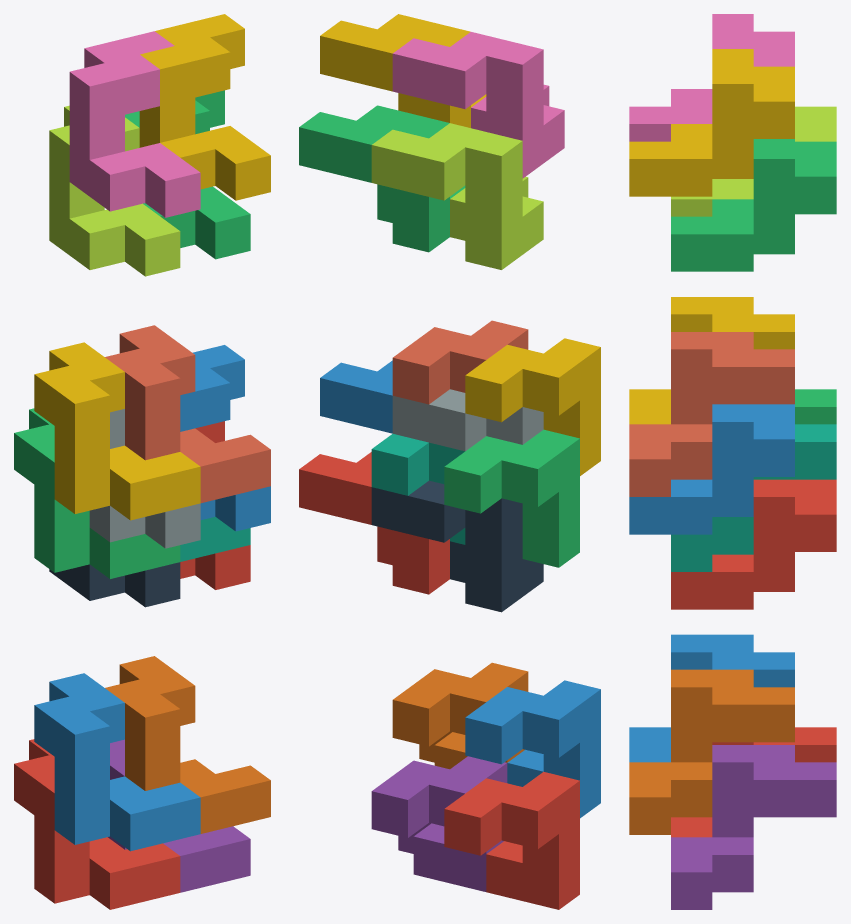
File: tiling.obj
The picture shows the model from 3 angles, left to right: view 1: azimuth 30°, elevation 25°; view 2: azimuth 150°, elevation 25°; view 3: azimuth 270°, elevation 25°; orthographic projection. The views are drawn at different scales.
Visible parts, largest first — view 1: copy_1_domain_2, copy_1_domain_4, copy_2_domain_4, copy_2_domain_8, copy_1_domain_8, copy_1_domain_6, copy_1_domain_1, copy_2_domain_3, copy_1_domain_3, copy_2_domain_6, copy_2_domain_7, copy_1_domain_5 (+4 smaller); view 2: copy_2_domain_3, copy_1_domain_1, copy_2_domain_4, copy_1_domain_3, copy_1_domain_2, copy_2_domain_1, copy_1_domain_4, copy_1_domain_5, copy_2_domain_7, copy_2_domain_5, copy_1_domain_6, copy_2_domain_8 (+4 smaller); view 3: copy_1_domain_6, copy_1_domain_5, copy_1_domain_8, copy_2_domain_8, copy_2_domain_7, copy_2_domain_5, copy_2_domain_6, copy_1_domain_2, copy_2_domain_4, copy_1_domain_4, copy_1_domain_7, copy_2_domain_3 (+2 smaller).
Boxes of the visible parts, <box> form: copy_1_domain_2: <box>34,673,200,851</box>; copy_1_domain_4: <box>34,342,200,520</box>; copy_2_domain_4: <box>69,31,200,217</box>; copy_2_domain_8: <box>139,14,270,200</box>; copy_1_domain_8: <box>105,325,270,503</box>; copy_1_domain_6: <box>105,656,270,833</box>; copy_1_domain_1: <box>14,739,180,909</box>; copy_2_domain_3: <box>49,105,180,276</box>; copy_1_domain_3: <box>14,408,180,578</box>; copy_2_domain_6: <box>180,345,270,531</box>; copy_2_domain_7: <box>125,90,250,259</box>; copy_1_domain_5: <box>108,739,250,892</box>; copy_2_domain_3: <box>371,123,543,269</box>; copy_1_domain_1: <box>444,771,579,909</box>; copy_2_domain_4: <box>392,32,564,178</box>; copy_1_domain_3: <box>444,429,579,567</box>; copy_1_domain_2: <box>465,680,600,818</box>; copy_2_domain_1: <box>371,480,543,612</box>; copy_1_domain_4: <box>465,338,600,475</box>; copy_1_domain_5: <box>371,756,507,891</box>; copy_2_domain_7: <box>299,105,465,252</box>; copy_2_domain_5: <box>299,452,449,594</box>; copy_1_domain_6: <box>392,662,528,769</box>; copy_2_domain_8: <box>320,14,486,127</box>; copy_1_domain_6: <box>629,669,794,834</box>; copy_1_domain_5: <box>671,745,836,909</box>; copy_1_domain_8: <box>629,332,794,496</box>; copy_2_domain_8: <box>629,49,794,196</box>; copy_2_domain_7: <box>671,139,836,271</box>; copy_2_domain_5: <box>671,479,836,609</box>; copy_2_domain_6: <box>629,404,794,534</box>; copy_1_domain_2: <box>629,634,794,762</box>; copy_2_domain_4: <box>629,14,794,141</box>; copy_1_domain_4: <box>629,297,794,424</box>; copy_1_domain_7: <box>671,424,836,571</box>; copy_2_domain_3: <box>671,106,836,216</box>.
Size of the model in its own units: 6 by 22 by 5.
